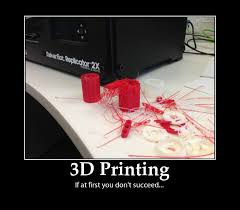fail: (154, 90, 198, 146), (102, 87, 143, 142)
